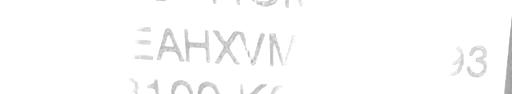letter: (266, 30, 300, 70), (302, 31, 336, 71), (22, 17, 54, 56), (126, 23, 156, 64), (154, 24, 184, 64), (182, 25, 212, 65), (210, 27, 240, 67), (238, 27, 266, 67), (72, 19, 98, 59), (97, 23, 125, 60), (389, 38, 415, 76), (439, 41, 465, 78), (463, 41, 489, 78), (414, 40, 440, 76), (338, 36, 364, 71), (48, 21, 74, 55), (366, 37, 384, 73)
